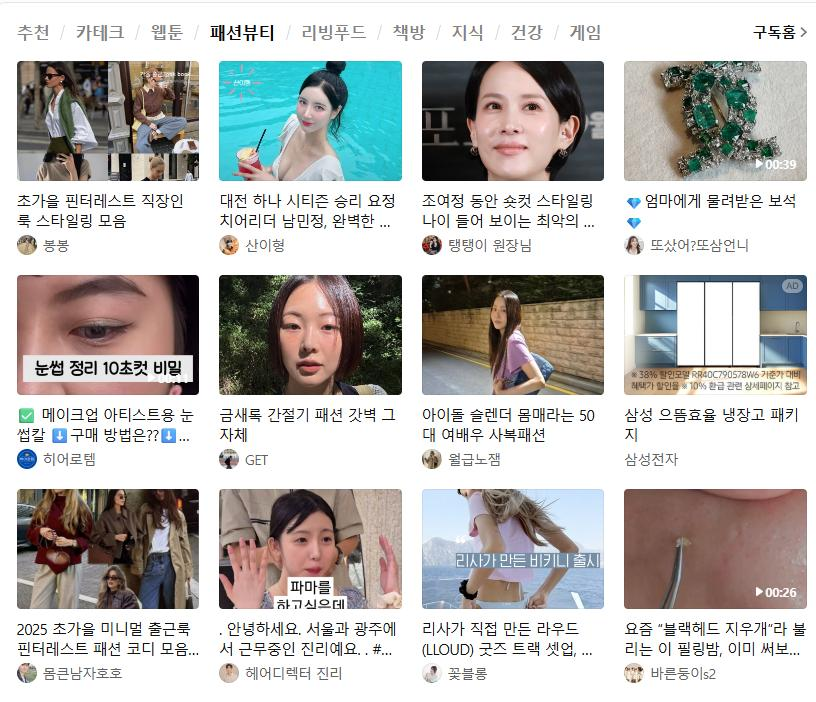button: (75, 19, 128, 51), (14, 15, 56, 46), (297, 26, 363, 45), (755, 23, 814, 44), (214, 23, 278, 42), (442, 26, 482, 43), (506, 25, 541, 44), (149, 28, 183, 44), (391, 27, 425, 42), (572, 25, 598, 43)
